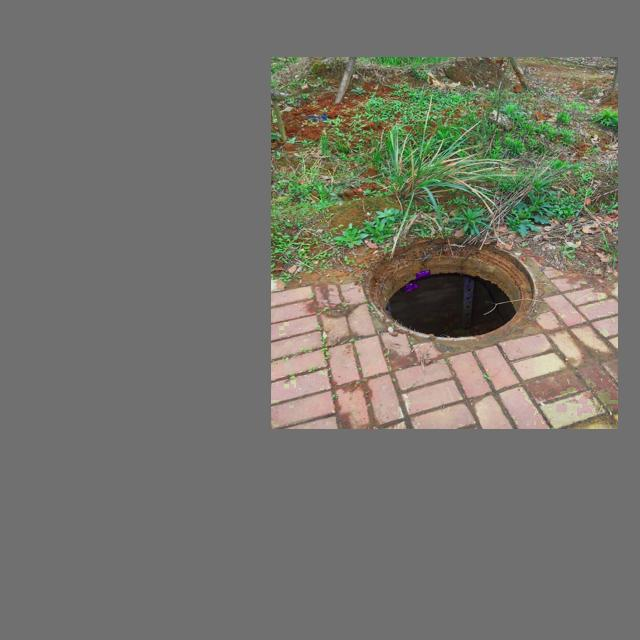lose: (364, 236, 536, 340)
